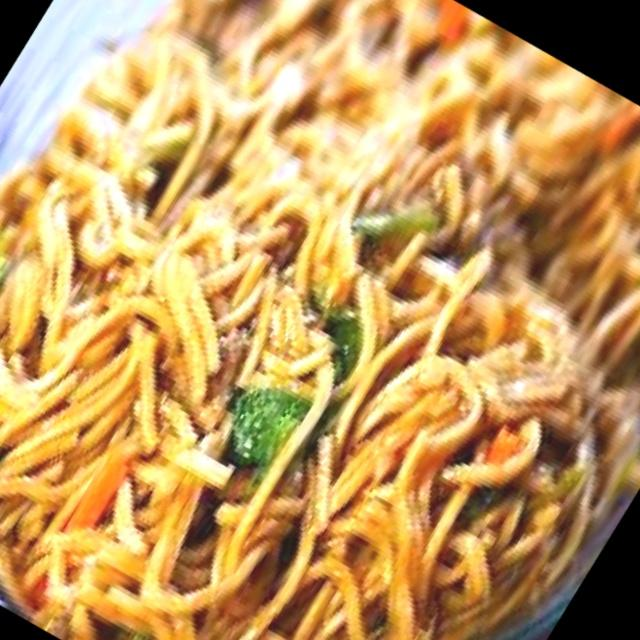pancit bihon: (0, 0, 639, 639)
